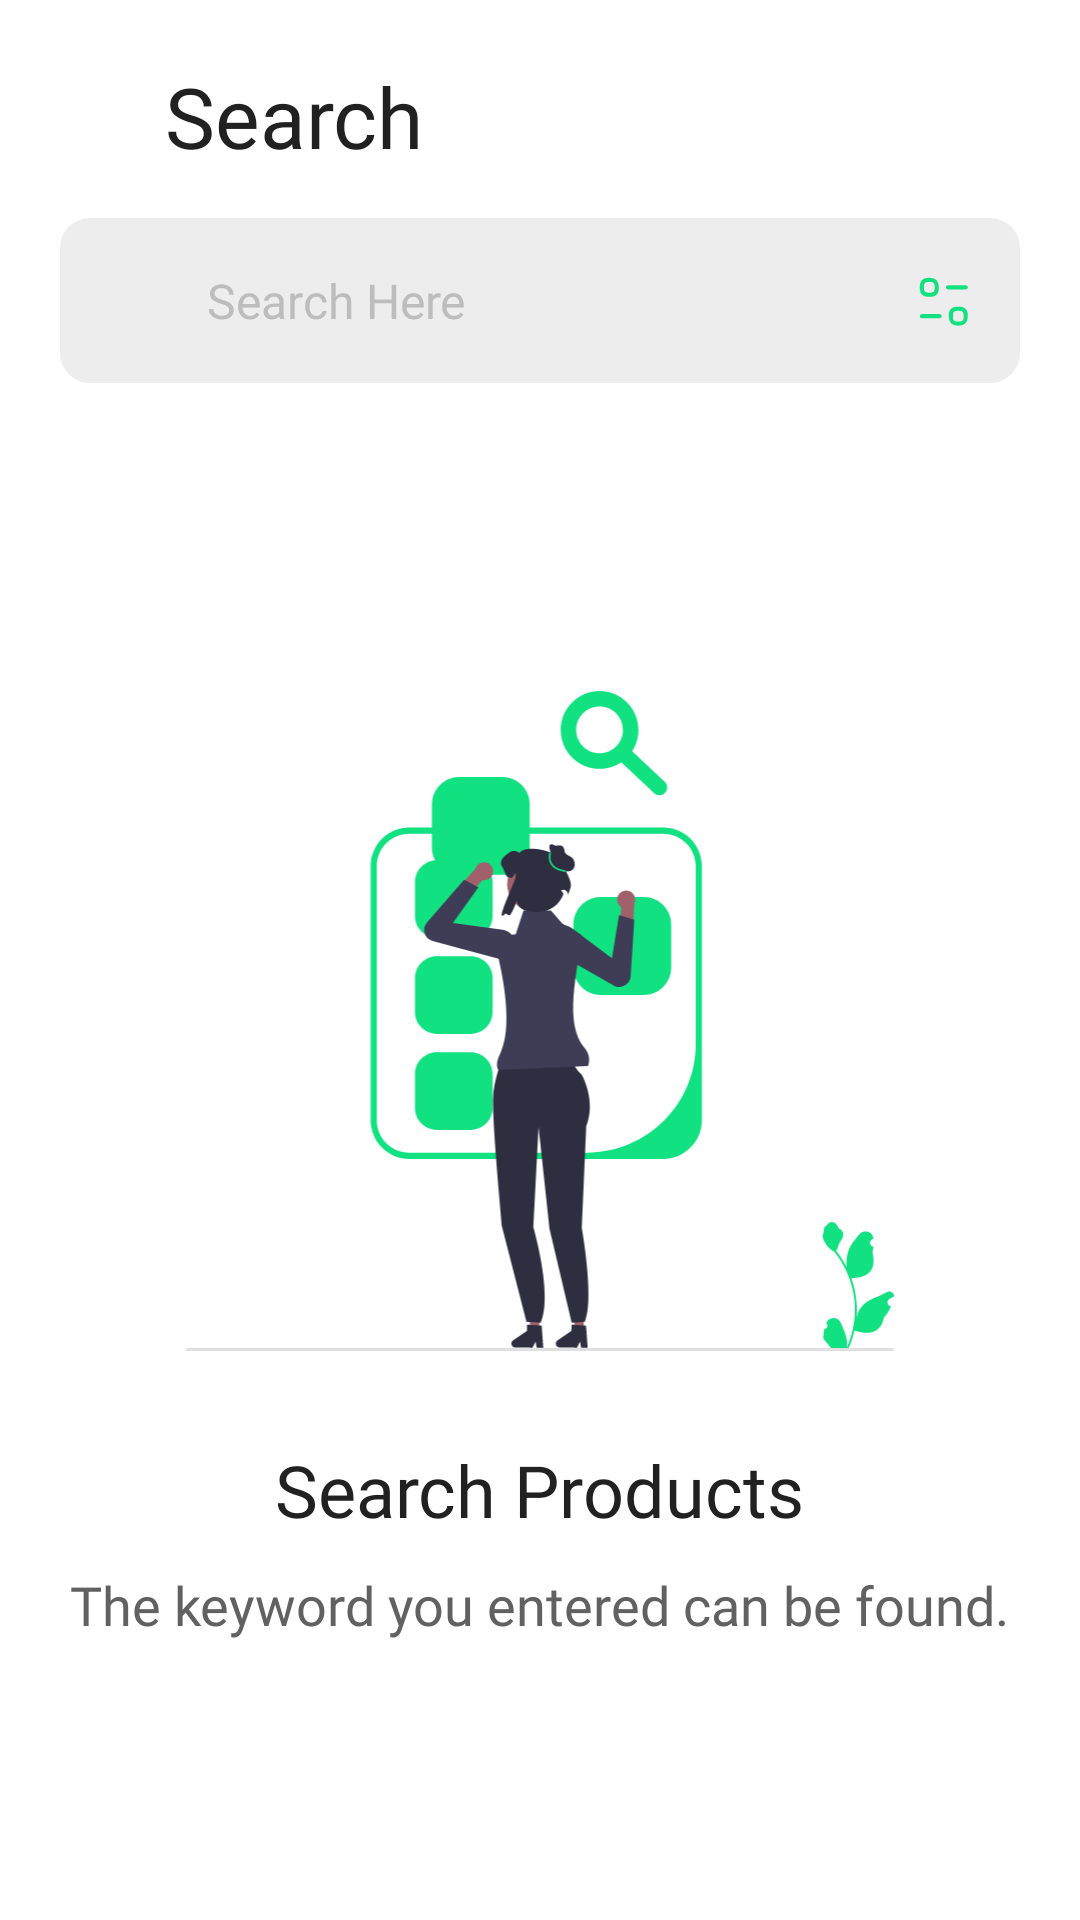

Where to tap for icons on this 1080 x 1920 app screen, as point (x, y):
filter: point (943, 301)
